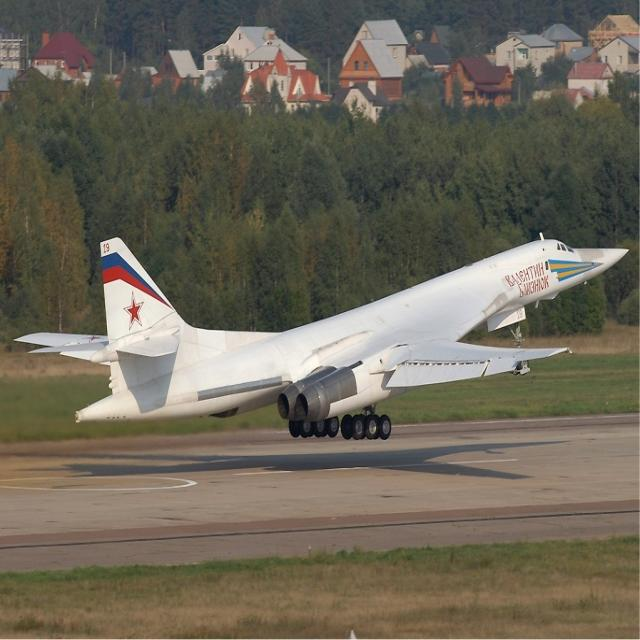Tu160: (20, 111, 640, 476)
